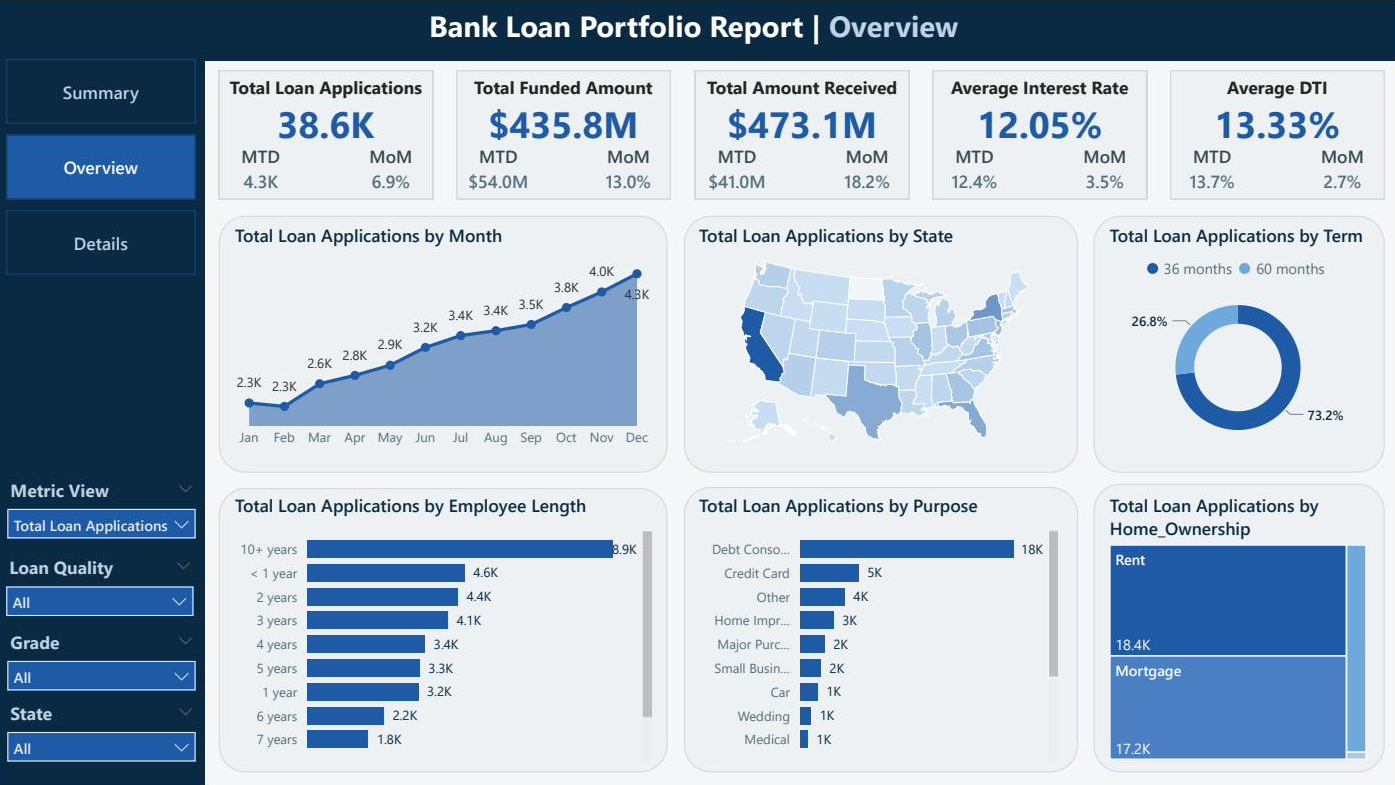

Layout of this report page (visuals, bound fields, positions):
{"tool":"powerbi","page":{"name":"Overview","canvas":[1280,720],"ordinal":1},"visuals":[{"type":"shape","box":[204.1,63.8,195.6,117.6],"z":0,"group":"g1"},{"type":"shape","box":[421.3,63.8,195.6,117.6],"z":0,"group":"g2"},{"type":"shape","box":[638.5,63.8,195.6,117.6],"z":0,"group":"g3"},{"type":"shape","box":[855.7,63.8,195.6,117.6],"z":0,"group":"g4"},{"type":"shape","box":[1072.9,63.8,195.6,117.6],"z":0,"group":"g5"},{"type":"shape","box":[204.1,197,410,235],"z":0},{"type":"shape","box":[0,53.9,191.3,664.7],"z":1000},{"type":"shape","box":[0.2,0,1279.8,55.3],"z":2000},{"type":"textbox","box":[382.7,0,510.2,55.3],"z":3000},{"type":"card","fields":{"Values":["_Measures.Total Loan Applications"]},"box":[204.1,95,195.6,36.9],"z":3000,"group":"g1"},{"type":"card","fields":{"Values":["_Measures.Total Funded Amount"]},"box":[421.3,95,195.6,36.9],"z":3000,"group":"g2"},{"type":"card","fields":{"Values":["_Measures.Total Amount Received"]},"box":[638.5,95,195.6,36.9],"z":3000,"group":"g3"},{"type":"card","fields":{"Values":["_Measures.Average Interest Rate"]},"box":[855.7,95,195.6,36.9],"z":3000,"group":"g4"},{"type":"card","fields":{"Values":["_Measures.Average DTI"]},"box":[1072.9,95,195.6,36.9],"z":3000,"group":"g5"},{"type":"group","id":"g1","title":"Group 1","box":[204.1,63.8,195.6,117.6],"z":4000},{"type":"textbox","box":[204.1,63.8,195.6,31.2],"z":5000,"group":"g1"},{"type":"group","id":"g2","title":"Group 1","box":[421.3,63.8,195.6,117.6],"z":5000},{"type":"textbox","box":[421.3,63.8,195.6,31.2],"z":5000,"group":"g2"},{"type":"textbox","box":[638.5,63.8,195.6,31.2],"z":5000,"group":"g3"},{"type":"textbox","box":[855.7,63.8,195.6,31.2],"z":5000,"group":"g4"},{"type":"textbox","box":[1072.9,63.8,195.6,31.2],"z":5000,"group":"g5"},{"type":"group","id":"g3","title":"Group 1","box":[638.5,63.8,195.6,117.6],"z":6000},{"type":"card","title":"MTD","fields":{"Values":["_Measures.MTD Loan Applications"]},"box":[204.1,131.8,76.5,49.6],"z":6000,"group":"g1"},{"type":"card","title":"MTD","fields":{"Values":["_Measures.MTD Funded Amount"]},"box":[421.3,131.8,76.5,49.6],"z":6000,"group":"g2"},{"type":"card","title":"MTD","fields":{"Values":["_Measures.MTD Amount Received"]},"box":[638.5,131.8,76.5,49.6],"z":6000,"group":"g3"},{"type":"card","title":"MTD","fields":{"Values":["_Measures.MTD Average Interest Rate"]},"box":[855.7,131.8,76.5,49.6],"z":6000,"group":"g4"},{"type":"card","title":"MTD","fields":{"Values":["_Measures.MTD DTI"]},"box":[1072.9,131.8,76.5,49.6],"z":6000,"group":"g5"},{"type":"group","id":"g4","title":"Group 1","box":[855.7,63.8,195.6,117.6],"z":7000},{"type":"card","title":"MoM","fields":{"Values":["_Measures.MoM Applications"]},"box":[323.2,131.8,76.5,49.6],"z":7000,"group":"g1"},{"type":"card","title":"MoM","fields":{"Values":["_Measures.MoM Funded Amount %"]},"box":[540.4,131.8,76.5,49.6],"z":7000,"group":"g2"},{"type":"card","title":"MoM","fields":{"Values":["_Measures.MoM Amount Received %"]},"box":[757.6,131.8,76.5,49.6],"z":7000,"group":"g3"},{"type":"card","title":"MoM","fields":{"Values":["_Measures.MoM Average Interest Rate %"]},"box":[974.8,131.8,76.5,49.6],"z":7000,"group":"g4"},{"type":"card","title":"MoM","fields":{"Values":["_Measures.MoM DTI %"]},"box":[1192,131.8,76.5,49.6],"z":7000,"group":"g5"},{"type":"group","id":"g5","title":"Group 1","box":[1072.9,63.8,195.6,117.6],"z":8000},{"type":"slicer","fields":{"Values":["bank_loan.Loan Quality"]},"box":[0,503.1,191.3,68],"z":9000},{"type":"slicer","fields":{"Values":["bank_loan.grade"]},"box":[1.4,571.2,191.3,65.2],"z":10000},{"type":"slicer","fields":{"Values":["bank_loan.address_state"]},"box":[1.4,636.4,191.3,69.4],"z":13000},{"type":"slicer","fields":{"Values":["Select Measure.Select Measure"]},"box":[1.4,432.3,191.3,70.9],"z":14000},{"type":"areaChart","fields":{"Y":["_Measures.Total Loan Applications"],"Category":["Calendar.Month Name"]},"box":[214,204.1,389.8,214],"z":16000},{"type":"shape","box":[628.8,197,360,235.3],"z":17000},{"type":"shapeMap","fields":{"Value":["_Measures.Total Loan Applications"],"Category":["bank_loan.address_state"]},"box":[637.8,204.1,337.3,214],"z":18000},{"type":"shape","box":[1003.5,197,265,235.3],"z":19000},{"type":"donutChart","fields":{"Y":["_Measures.Total Loan Applications"],"Category":["bank_loan.term"]},"box":[1013.4,204.1,243.8,214],"z":20000},{"type":"shape","box":[204.1,446.5,409.6,259.4],"z":21000},{"type":"clusteredBarChart","fields":{"Y":["_Measures.Total Loan Applications"],"Category":["bank_loan.emp_length"]},"box":[214,450.7,389.8,248],"z":22000},{"type":"shape","box":[628.6,445,360,260.8],"z":23000},{"type":"clusteredBarChart","fields":{"Y":["_Measures.Total Loan Applications"],"Category":["bank_loan.purpose"]},"box":[637.8,450.7,337.3,248],"z":24000},{"type":"shape","box":[1003.5,442.2,265,263.6],"z":25000},{"type":"treemap","fields":{"Values":["_Measures.Total Loan Applications"],"Group":["bank_loan.home_ownership"]},"box":[1013.4,450.7,243.8,248],"z":26000},{"type":"pageNavigator","box":[9.9,53.9,172.9,198.4],"z":28000}]}

Visuals, with their boxes on the page's 1280x720 design canvas (x1, y1, x2, y2). These are canvas units, not pixel positions in the 1395x785 screenshot, which may show the page scaled, cropped or inside an application window:
shape: 204, 64, 400, 181
shape: 421, 64, 617, 181
shape: 638, 64, 834, 181
shape: 856, 64, 1051, 181
shape: 1073, 64, 1268, 181
shape: 204, 197, 614, 432
shape: 0, 54, 191, 719
shape: 0, 0, 1280, 55
textbox: 383, 0, 893, 55
card - _Measures.Total Loan Applications: 204, 95, 400, 132
card - _Measures.Total Funded Amount: 421, 95, 617, 132
card - _Measures.Total Amount Received: 638, 95, 834, 132
card - _Measures.Average Interest Rate: 856, 95, 1051, 132
card - _Measures.Average DTI: 1073, 95, 1268, 132
"Group 1" group: 204, 64, 400, 181
textbox: 204, 64, 400, 95
"Group 1" group: 421, 64, 617, 181
textbox: 421, 64, 617, 95
textbox: 638, 64, 834, 95
textbox: 856, 64, 1051, 95
textbox: 1073, 64, 1268, 95
"Group 1" group: 638, 64, 834, 181
"MTD" card: 204, 132, 281, 181
"MTD" card: 421, 132, 498, 181
"MTD" card: 638, 132, 715, 181
"MTD" card: 856, 132, 932, 181
"MTD" card: 1073, 132, 1149, 181
"Group 1" group: 856, 64, 1051, 181
"MoM" card: 323, 132, 400, 181
"MoM" card: 540, 132, 617, 181
"MoM" card: 758, 132, 834, 181
"MoM" card: 975, 132, 1051, 181
"MoM" card: 1192, 132, 1268, 181
"Group 1" group: 1073, 64, 1268, 181
slicer - bank_loan.Loan Quality: 0, 503, 191, 571
slicer - bank_loan.grade: 1, 571, 193, 636
slicer - bank_loan.address_state: 1, 636, 193, 706
slicer - Select Measure.Select Measure: 1, 432, 193, 503
areaChart - _Measures.Total Loan Applications x Calendar.Month Name: 214, 204, 604, 418
shape: 629, 197, 989, 432
shapeMap - _Measures.Total Loan Applications x bank_loan.address_state: 638, 204, 975, 418
shape: 1004, 197, 1268, 432
donutChart - _Measures.Total Loan Applications x bank_loan.term: 1013, 204, 1257, 418
shape: 204, 446, 614, 706
clusteredBarChart - _Measures.Total Loan Applications x bank_loan.emp_length: 214, 451, 604, 699
shape: 629, 445, 989, 706
clusteredBarChart - _Measures.Total Loan Applications x bank_loan.purpose: 638, 451, 975, 699
shape: 1004, 442, 1268, 706
treemap - _Measures.Total Loan Applications x bank_loan.home_ownership: 1013, 451, 1257, 699
pageNavigator: 10, 54, 183, 252
